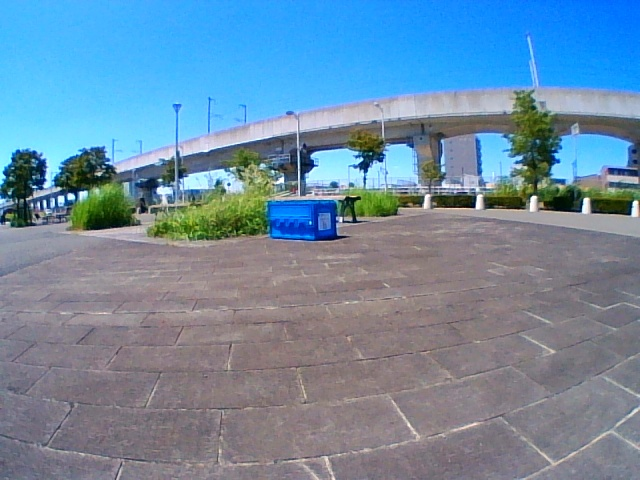blue_box: (269, 200, 336, 238)
tag: (319, 212, 330, 230)
